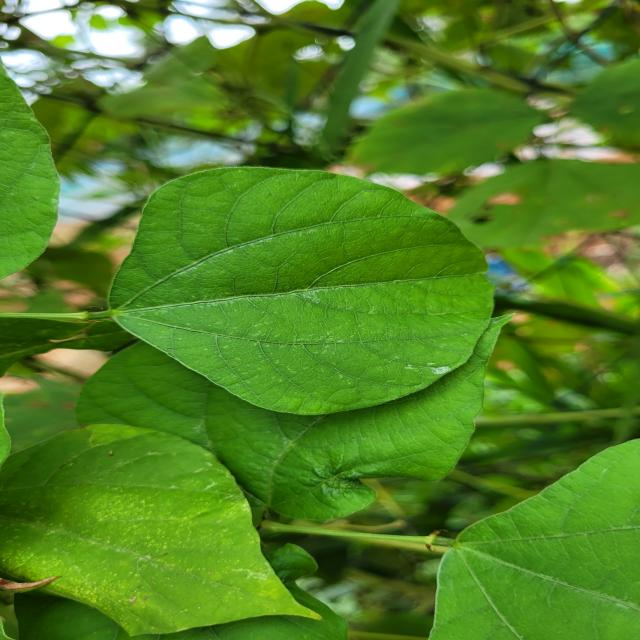Dolicos bean_healthy: (122, 165, 499, 414), (6, 422, 319, 636), (418, 433, 640, 640)
